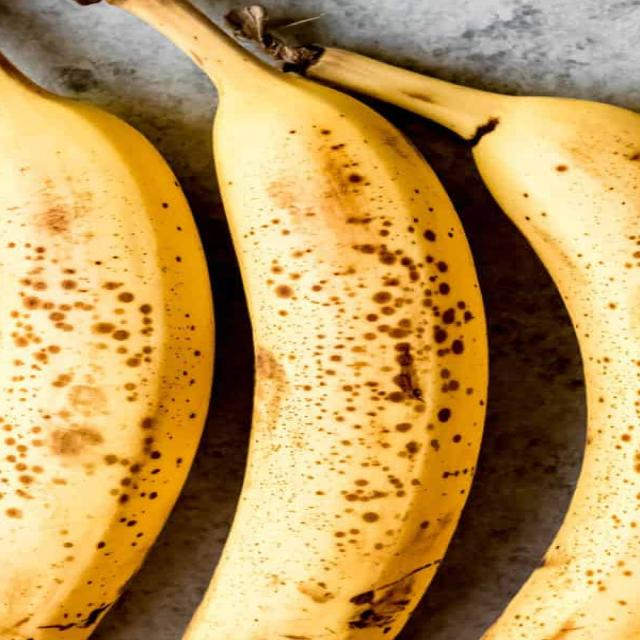banana: (110, 0, 487, 640), (283, 44, 640, 640), (0, 48, 217, 640)
